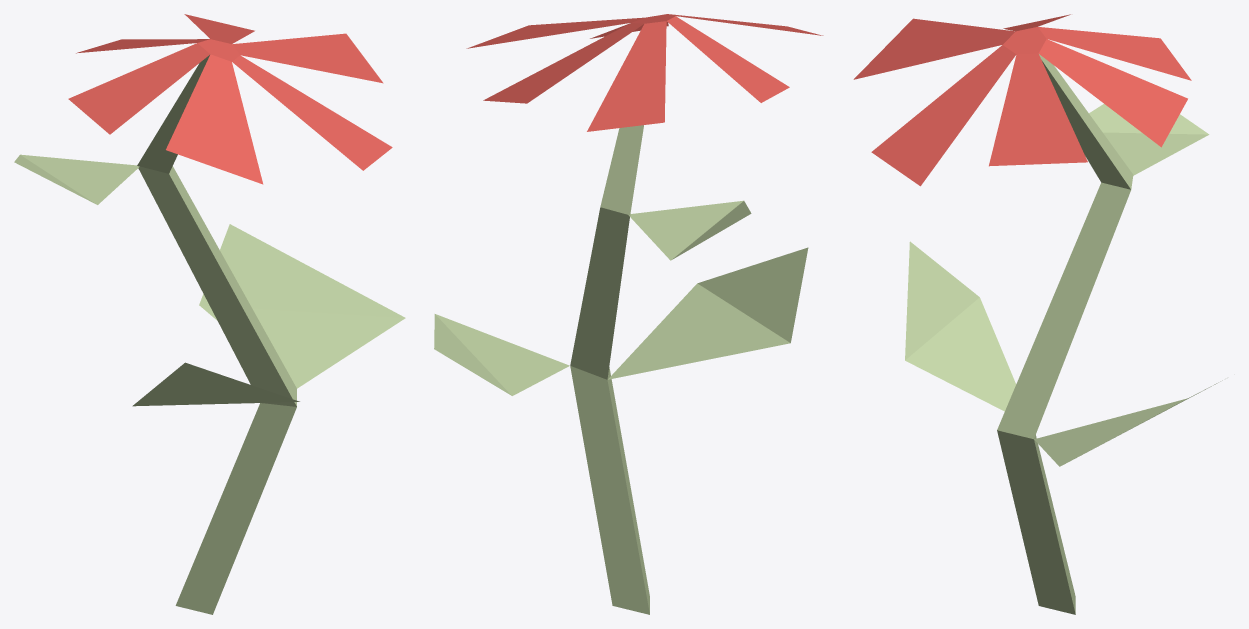
Rendered from flower.dae.
3 views of the same model, side by side, from view 1: azimuth 30°, elevation 25°; view 2: azimuth 150°, elevation 25°; view 3: azimuth 270°, elevation 25° (orthographic).
Parts seen in each view (by area): view 1: Zinnia; view 2: Zinnia; view 3: Zinnia.
Boxes of the visible parts, bbox=[...] form: Zinnia: bbox=[14, 14, 405, 614]; Zinnia: bbox=[434, 14, 823, 614]; Zinnia: bbox=[853, 14, 1222, 614].
Bounding box in the file's own units: 0.9852 × 0.9294 × 1.53.
